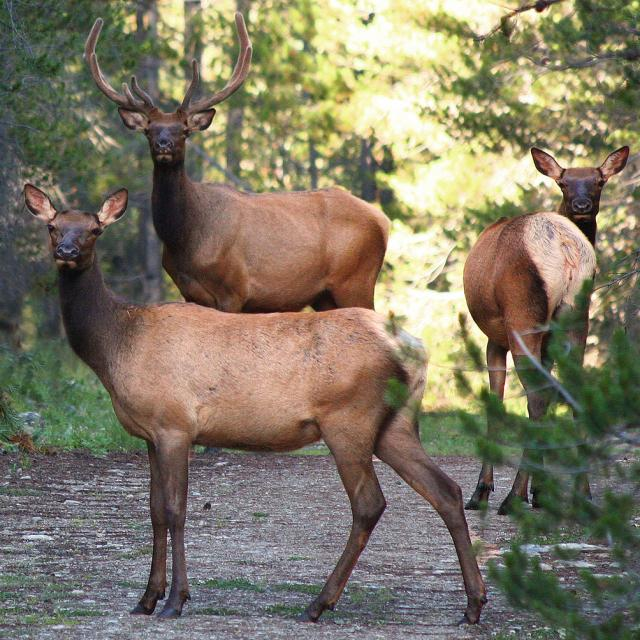Deer: (24, 183, 489, 626), (82, 12, 392, 312), (464, 145, 629, 515)
